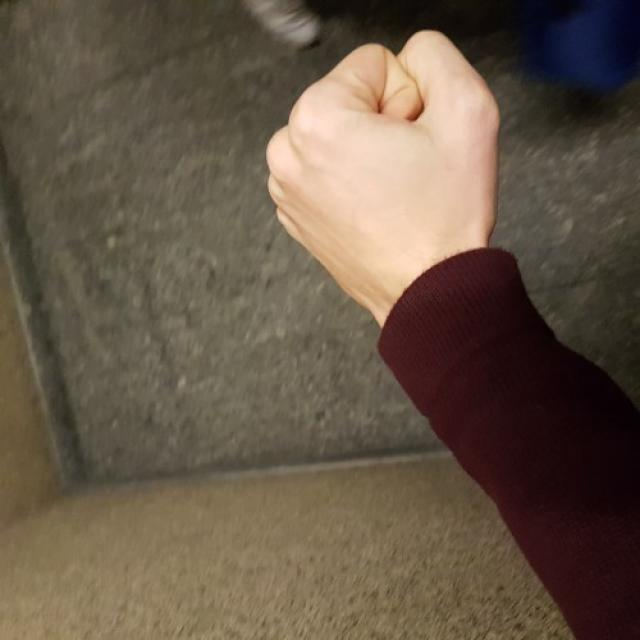rock: (268, 30, 506, 286)
